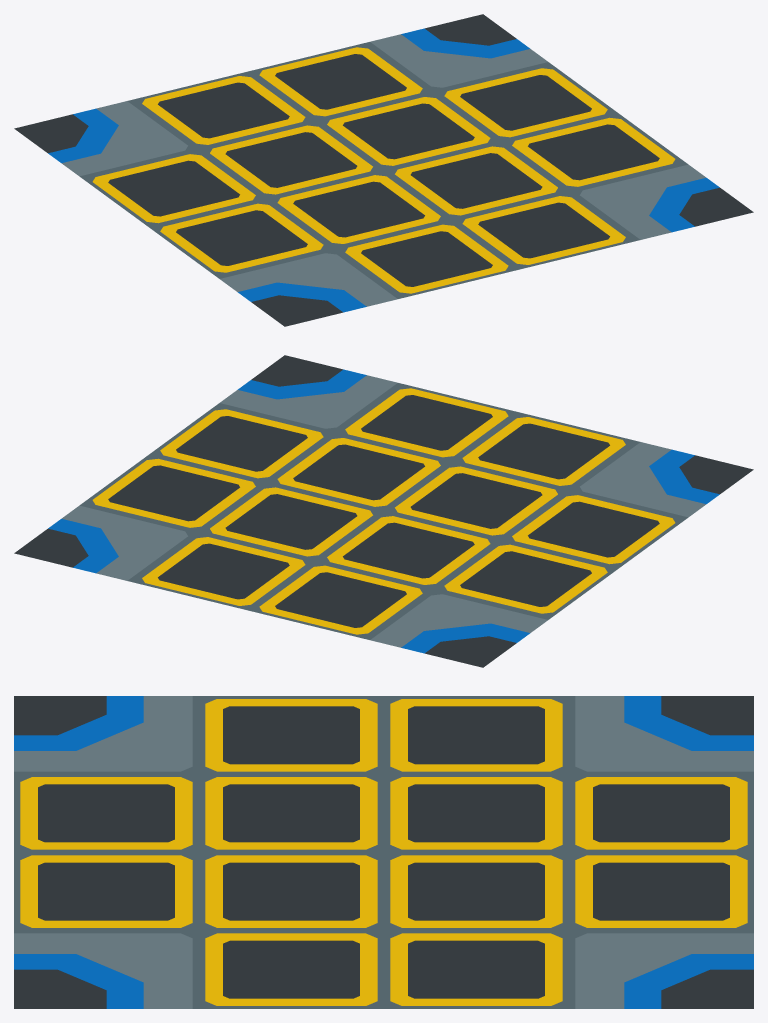
File: Floor_type_C_004.glb
3 views of the same model, one above another, from view 1: azimuth 30°, elevation 25°; view 2: azimuth 150°, elevation 25°; view 3: azimuth 270°, elevation 25° (orthographic). The views are drawn at different scales.
Parts seen in each view (by area): view 1: Floor_type_C_004; view 2: Floor_type_C_004; view 3: Floor_type_C_004.
Part boxes in pixels (x1,y1,x2,y2): Floor_type_C_004: [14, 14, 753, 326]; Floor_type_C_004: [14, 355, 753, 667]; Floor_type_C_004: [14, 696, 753, 1008].
Bounding box in the file's own units: 4 × 3.88e-23 × 4.
Materials: 2 (2 with a texture image).
